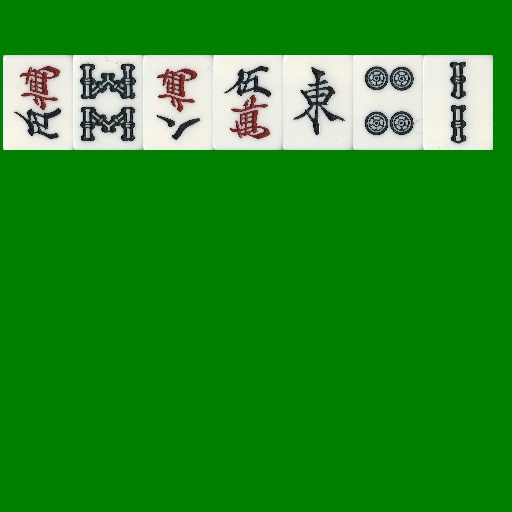2s: (423, 55, 493, 150)
4p: (353, 55, 423, 150)
5m: (3, 55, 73, 150), (213, 55, 283, 150)
8m: (143, 55, 213, 150)
8s: (73, 55, 143, 150)
east: (283, 55, 353, 150)
